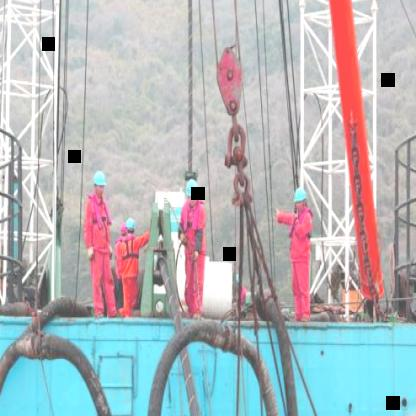helmet: (290, 184, 309, 213), (184, 175, 199, 208), (92, 169, 106, 198), (126, 214, 138, 238)
